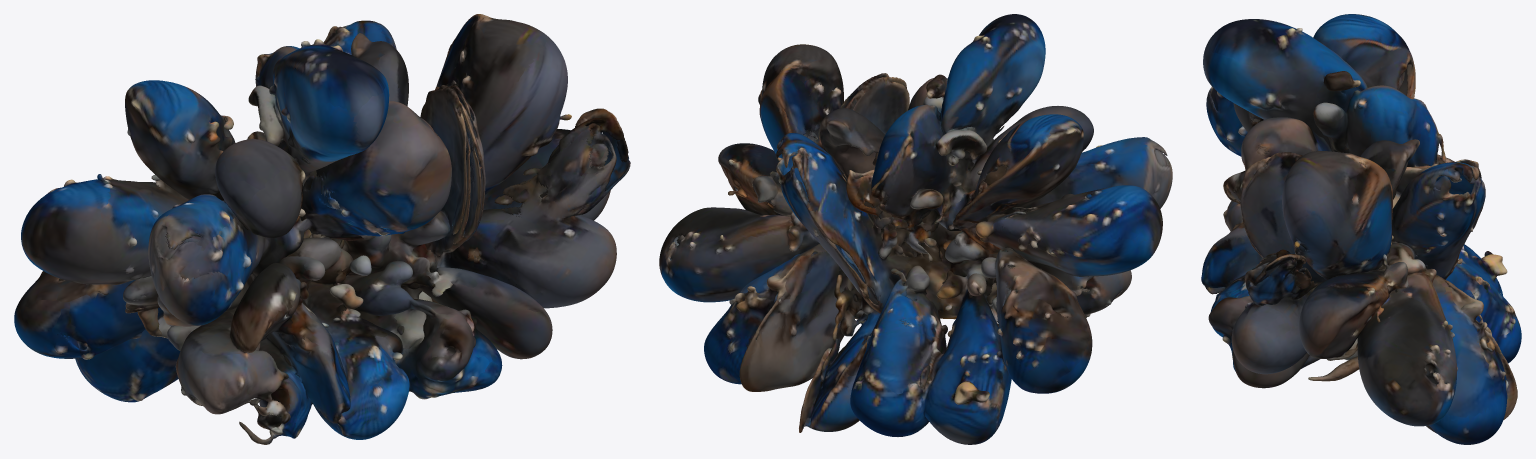
Rendered from mussel_bed_c.glb.
3 renders of one model, left to right at view 1: azimuth 30°, elevation 25°; view 2: azimuth 150°, elevation 25°; view 3: azimuth 270°, elevation 25°, orthographic. The views are drawn at different scales.
Parts seen in each view (by area): view 1: tripo_node_1dde72a1-7026-4bd8-9762-bd5e0dbffaf6; view 2: tripo_node_1dde72a1-7026-4bd8-9762-bd5e0dbffaf6; view 3: tripo_node_1dde72a1-7026-4bd8-9762-bd5e0dbffaf6.
Boxes of the visible parts, x1,y1,x2,y2 form: tripo_node_1dde72a1-7026-4bd8-9762-bd5e0dbffaf6: (14, 14, 630, 444); tripo_node_1dde72a1-7026-4bd8-9762-bd5e0dbffaf6: (659, 14, 1172, 444); tripo_node_1dde72a1-7026-4bd8-9762-bd5e0dbffaf6: (1201, 14, 1521, 444).
Size of the model in its own units: 1 by 0.732 by 0.5755.
Materials: 1 (1 with a texture image).
